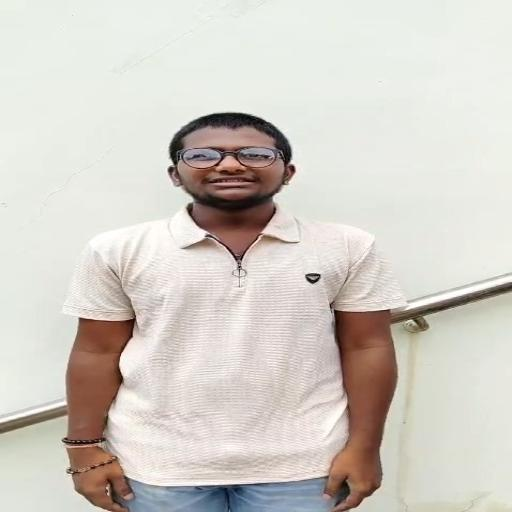employee-detectio-system: (50, 104, 402, 424)
